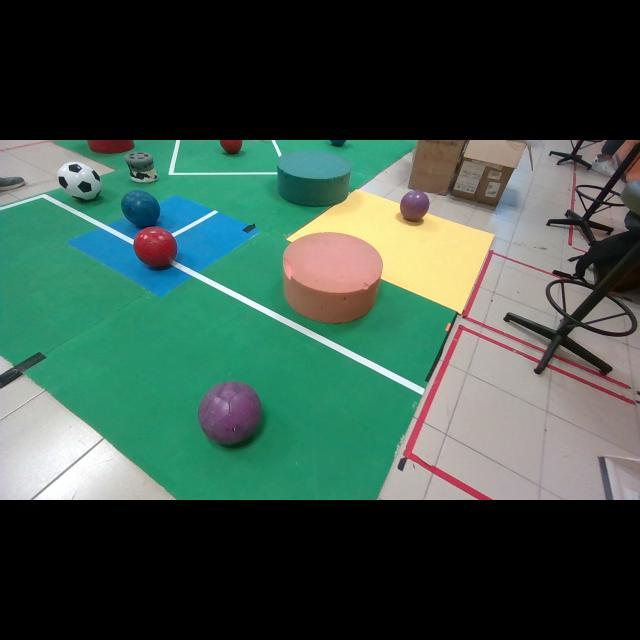B: (121, 190, 160, 228), (330, 140, 346, 146)
P: (198, 381, 261, 444), (400, 190, 430, 222)
R: (134, 228, 176, 269), (219, 140, 242, 154)
